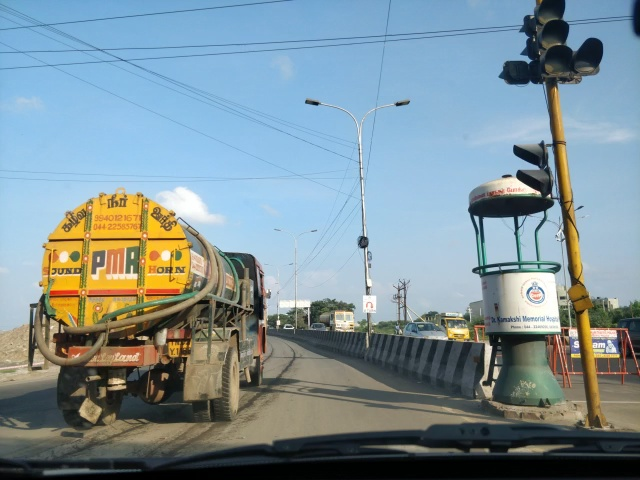car: (400, 317, 452, 351), (279, 319, 300, 336)
truck: (33, 181, 278, 426), (311, 297, 359, 340), (440, 300, 478, 349)
